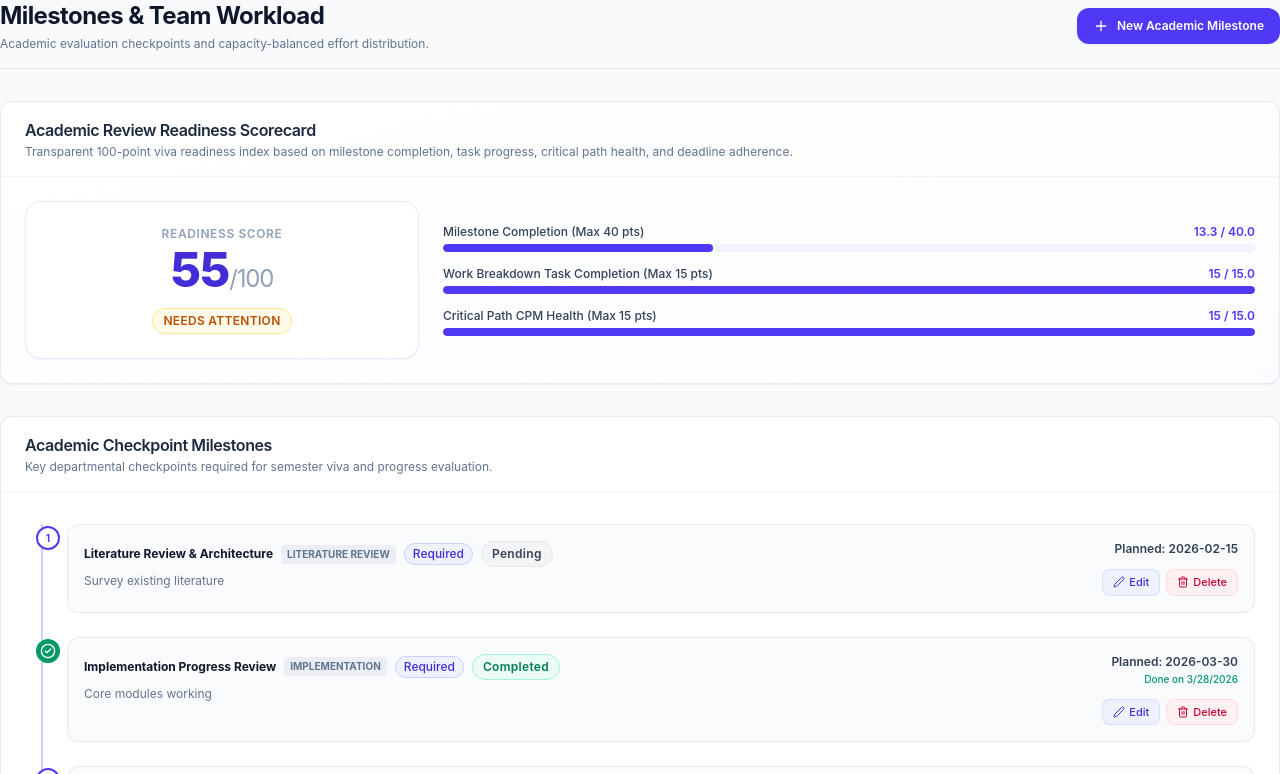
Scenario: Academic Milestone Status Feature (Pending vs Completed) › allows changing status from Pending to Completed and saves via api.milestones.update
Later steps or results of the test are not shown.
Check: the text "Literature Review & Architecture" is shown, box [84,546,273,562]
Note: Click Edit on Milestone 1 (which is 'pending')
Click the button "Edit" below "2026-02-15". click: point(1131, 582)
box: [1102,569,1160,596]
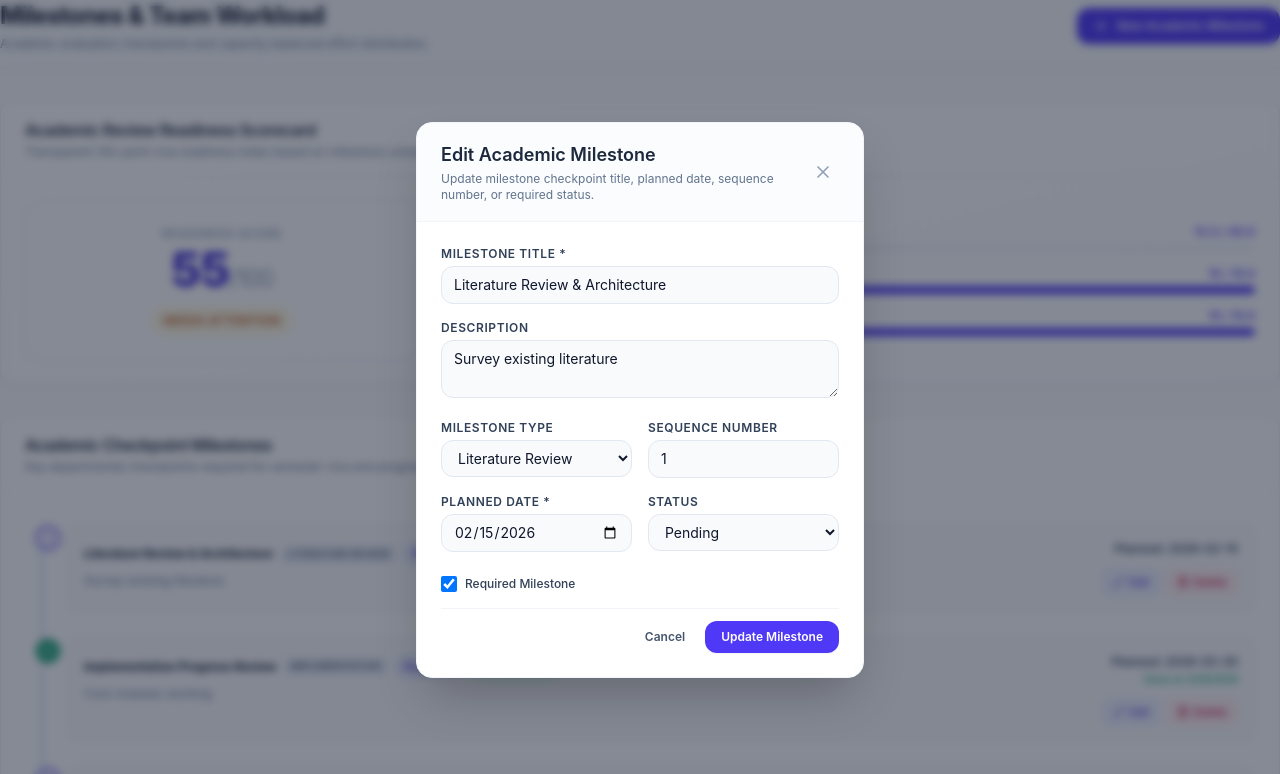
Check: the dropdown with test id "milestone-status-select" shows "Pending", box [648,514,839,551]
